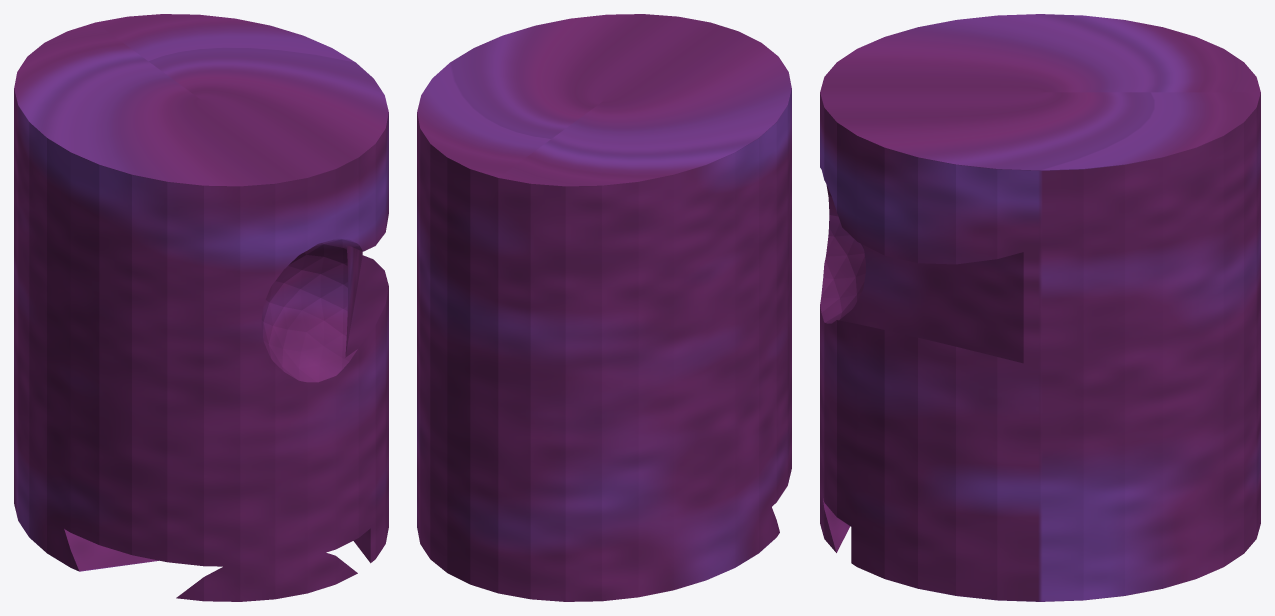
3 renders of one model, left to right at view 1: azimuth 30°, elevation 25°; view 2: azimuth 150°, elevation 25°; view 3: azimuth 270°, elevation 25°, orthographic. The views are drawn at different scales.
Visible parts, largest first — view 1: geometry_0; view 2: geometry_0; view 3: geometry_0.
Boxes of the visible parts, x1,y1,x2,y2 form: geometry_0: (14,14,388,601); geometry_0: (417,14,791,601); geometry_0: (820,14,1260,601).
Size of the model in its own units: 1.96 by 2.52 by 2.33.
1 material, 1 textured.
